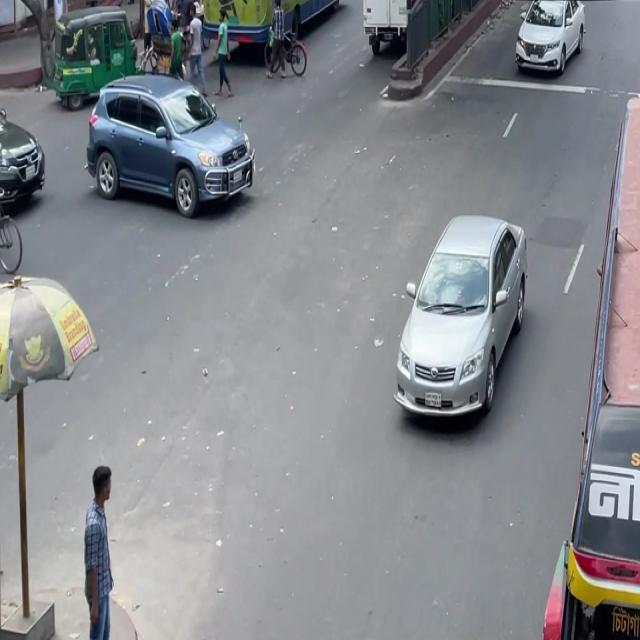bicycle: (258, 29, 308, 79)
car: (388, 200, 534, 434), (81, 56, 260, 230), (510, 0, 590, 84)
rickshaw: (45, 0, 141, 114)
